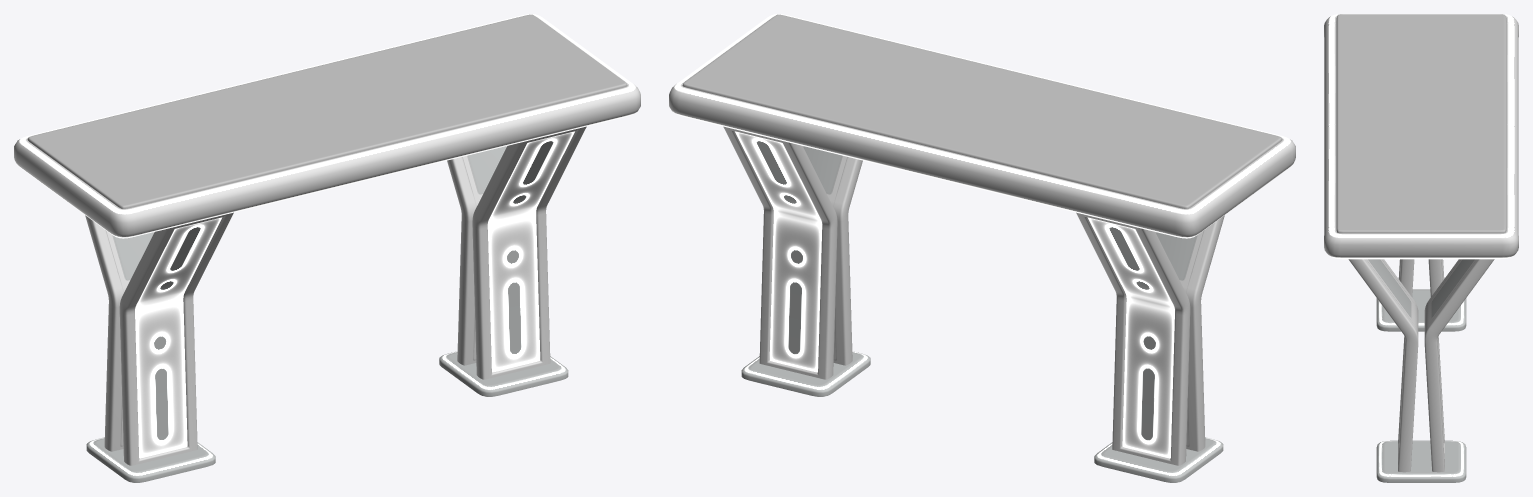
Rendered from BarTable04_2.FBX.
3 views of the same model, side by side, from view 1: azimuth 30°, elevation 25°; view 2: azimuth 150°, elevation 25°; view 3: azimuth 270°, elevation 25° (orthographic). The views are drawn at different scales.
Parts seen in each view (by area): view 1: BarTable04_2; view 2: BarTable04_2; view 3: BarTable04_2.
Boxes of the visible parts, x1,y1,x2,y2 form: BarTable04_2: (14, 14, 640, 482); BarTable04_2: (669, 14, 1295, 482); BarTable04_2: (1324, 14, 1518, 482).
Size of what is drawn, in the model's own units: 2.01 by 1.1 by 0.73.
